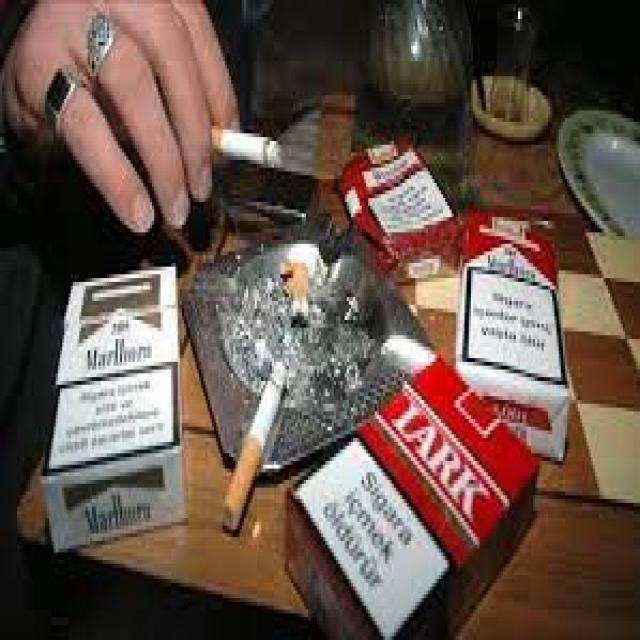rokok: (218, 364, 286, 532), (200, 117, 294, 175)
